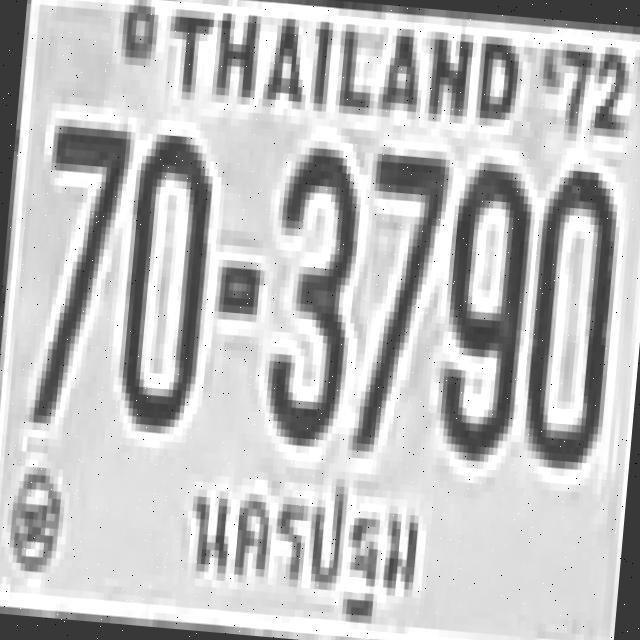0: (518, 160, 620, 463), (114, 125, 212, 428)
3: (258, 137, 361, 440)
7: (24, 117, 128, 420), (348, 145, 446, 448), (351, 145, 446, 411)
9: (433, 152, 531, 456)
NakhonPathom: (170, 454, 438, 640)
